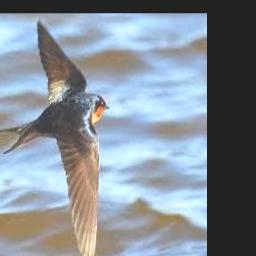Swallow: (0, 20, 110, 256)
